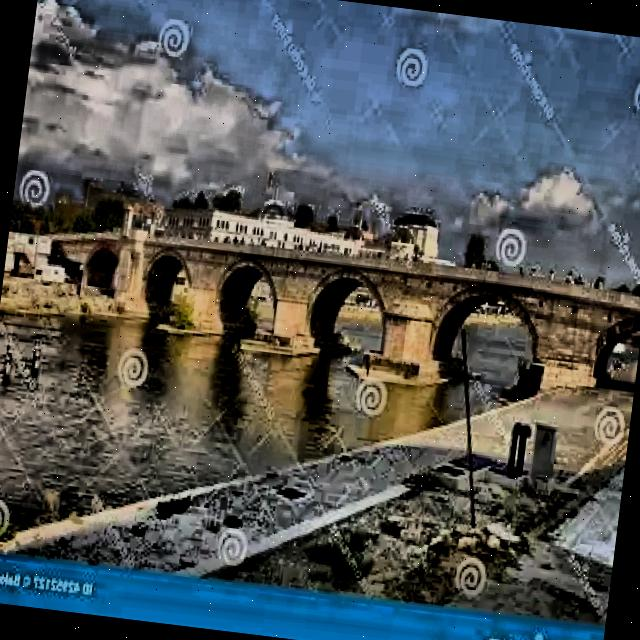stone bridge: (1, 194, 640, 416)
